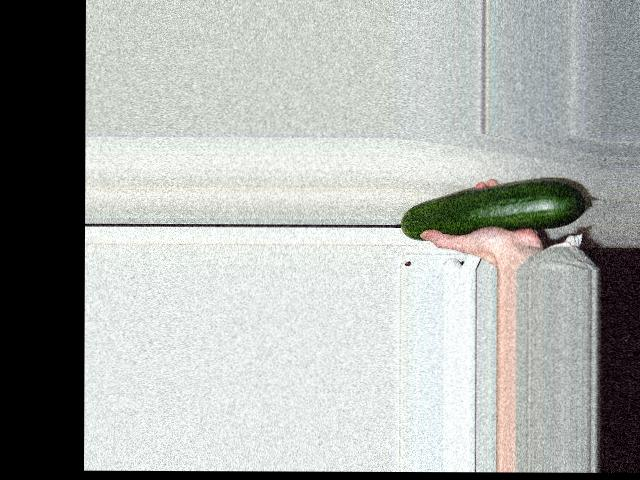cucumber: (400, 176, 592, 240)
